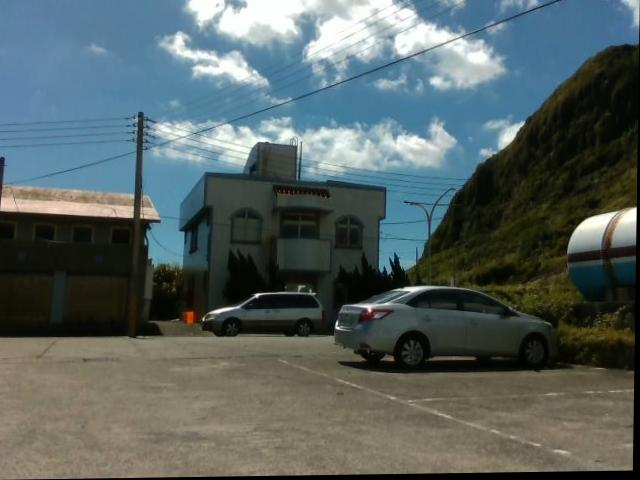pollute: (179, 312, 197, 327)
